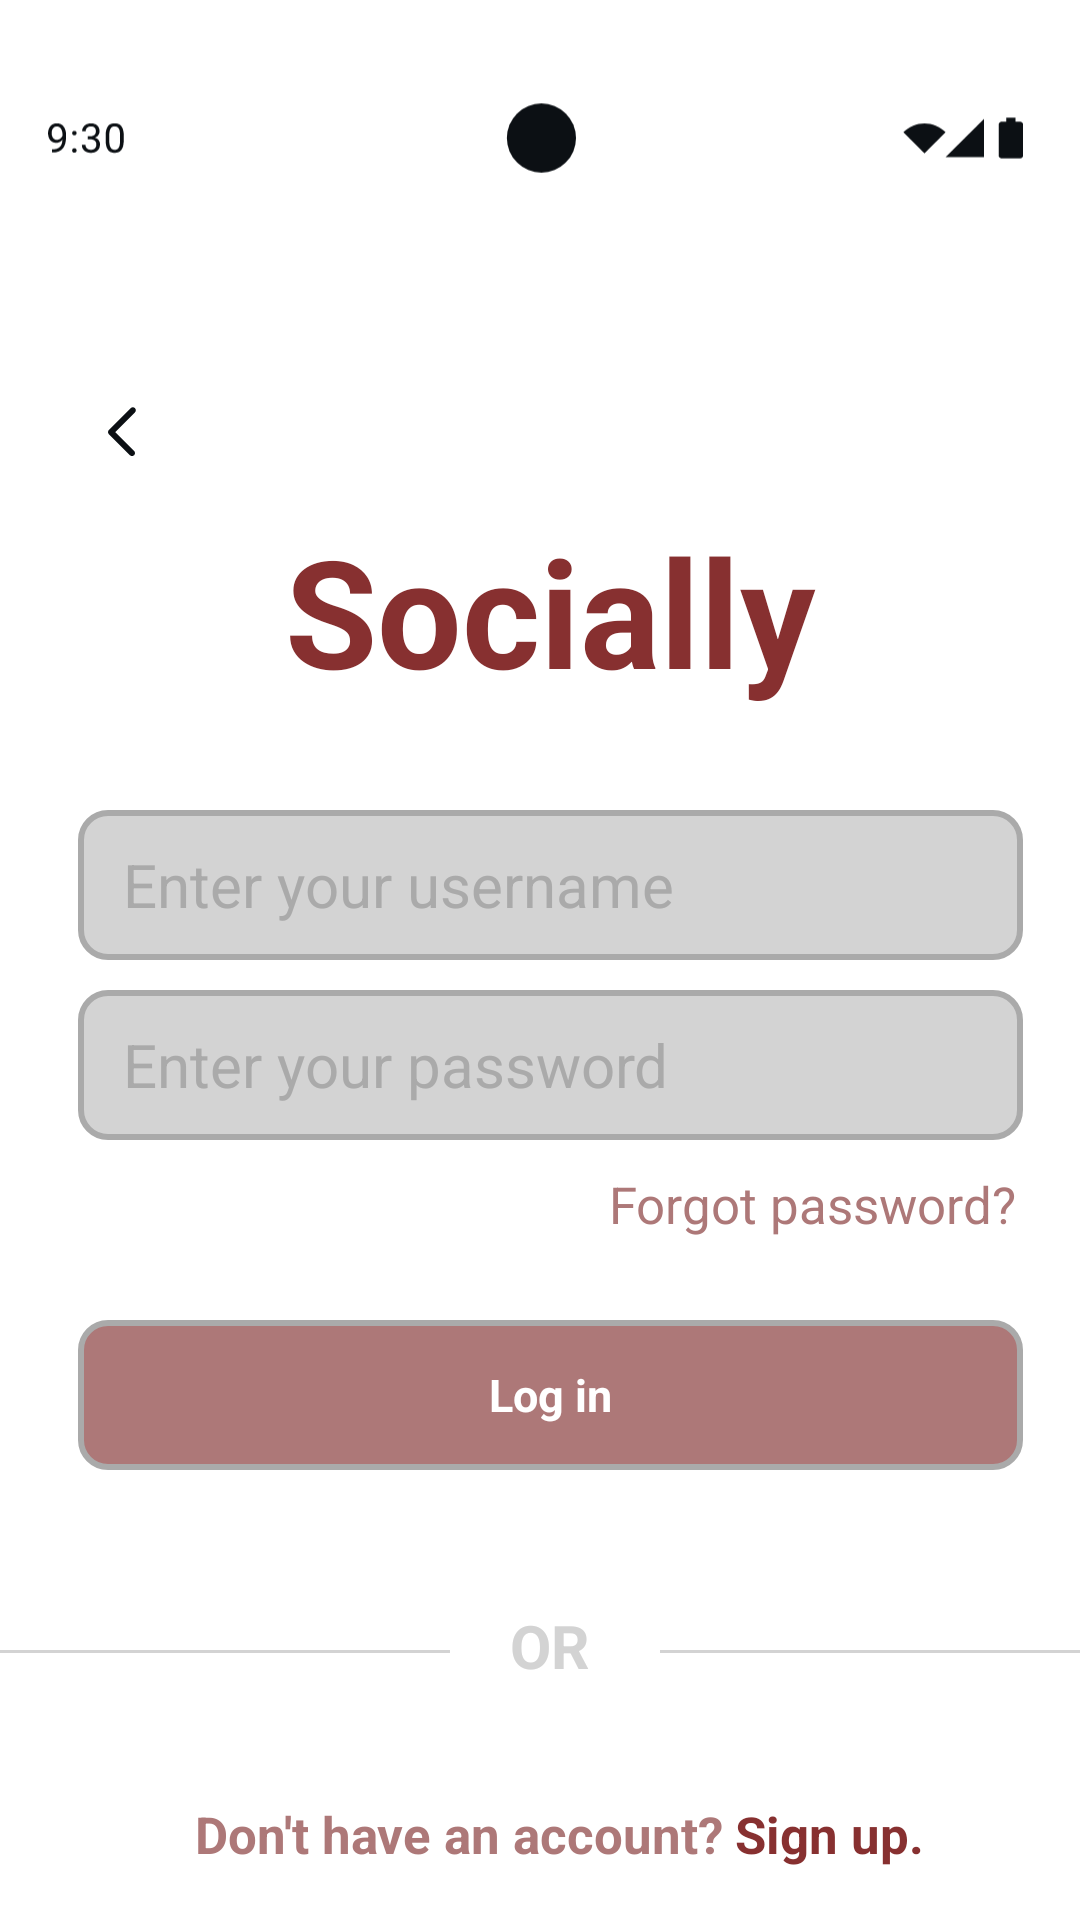

Icon bounding boxes for this 1080px x 1920px phone screenshot, format box(x1, y1, x2, y2):
chevron left: box(108, 407, 136, 456)
